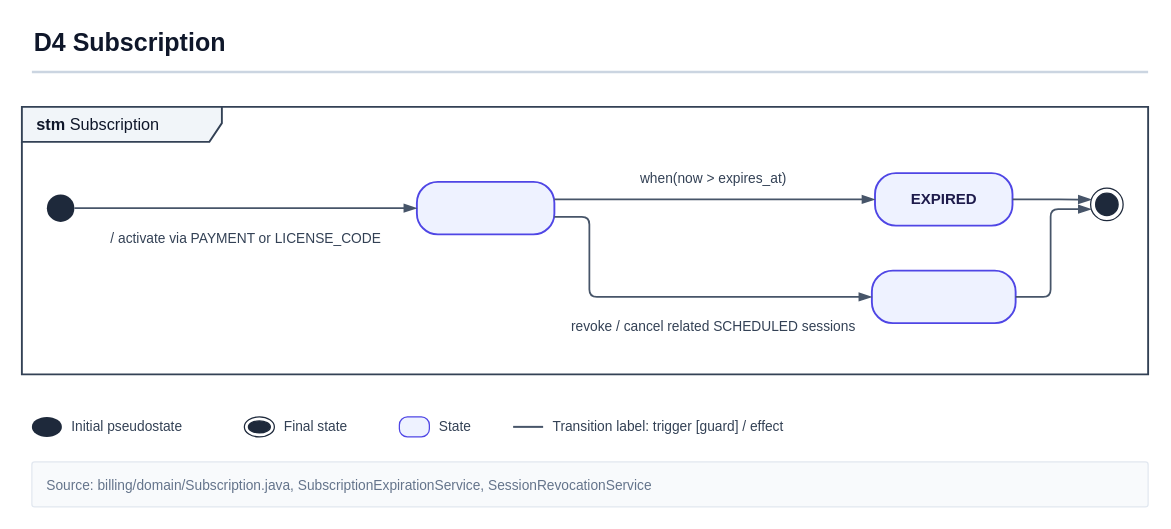
This 1171x529 diagram has some shape labels left out. The shapes that lost their labels are listed below. From the top down, each one's centre as x and y in pixels, then its label:
point (485, 207): ACTIVE
point (943, 296): CANCELLED
